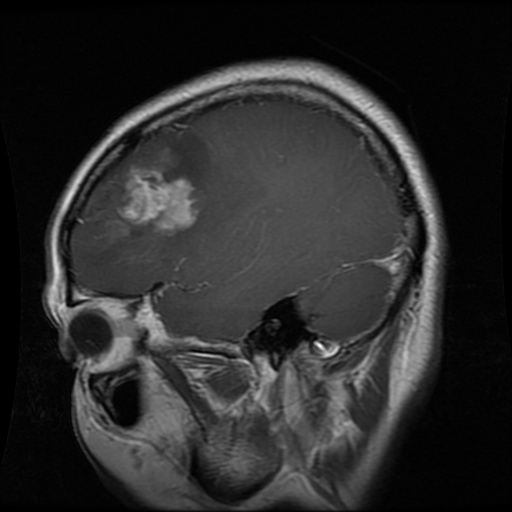glioma: (115, 164, 203, 231)
